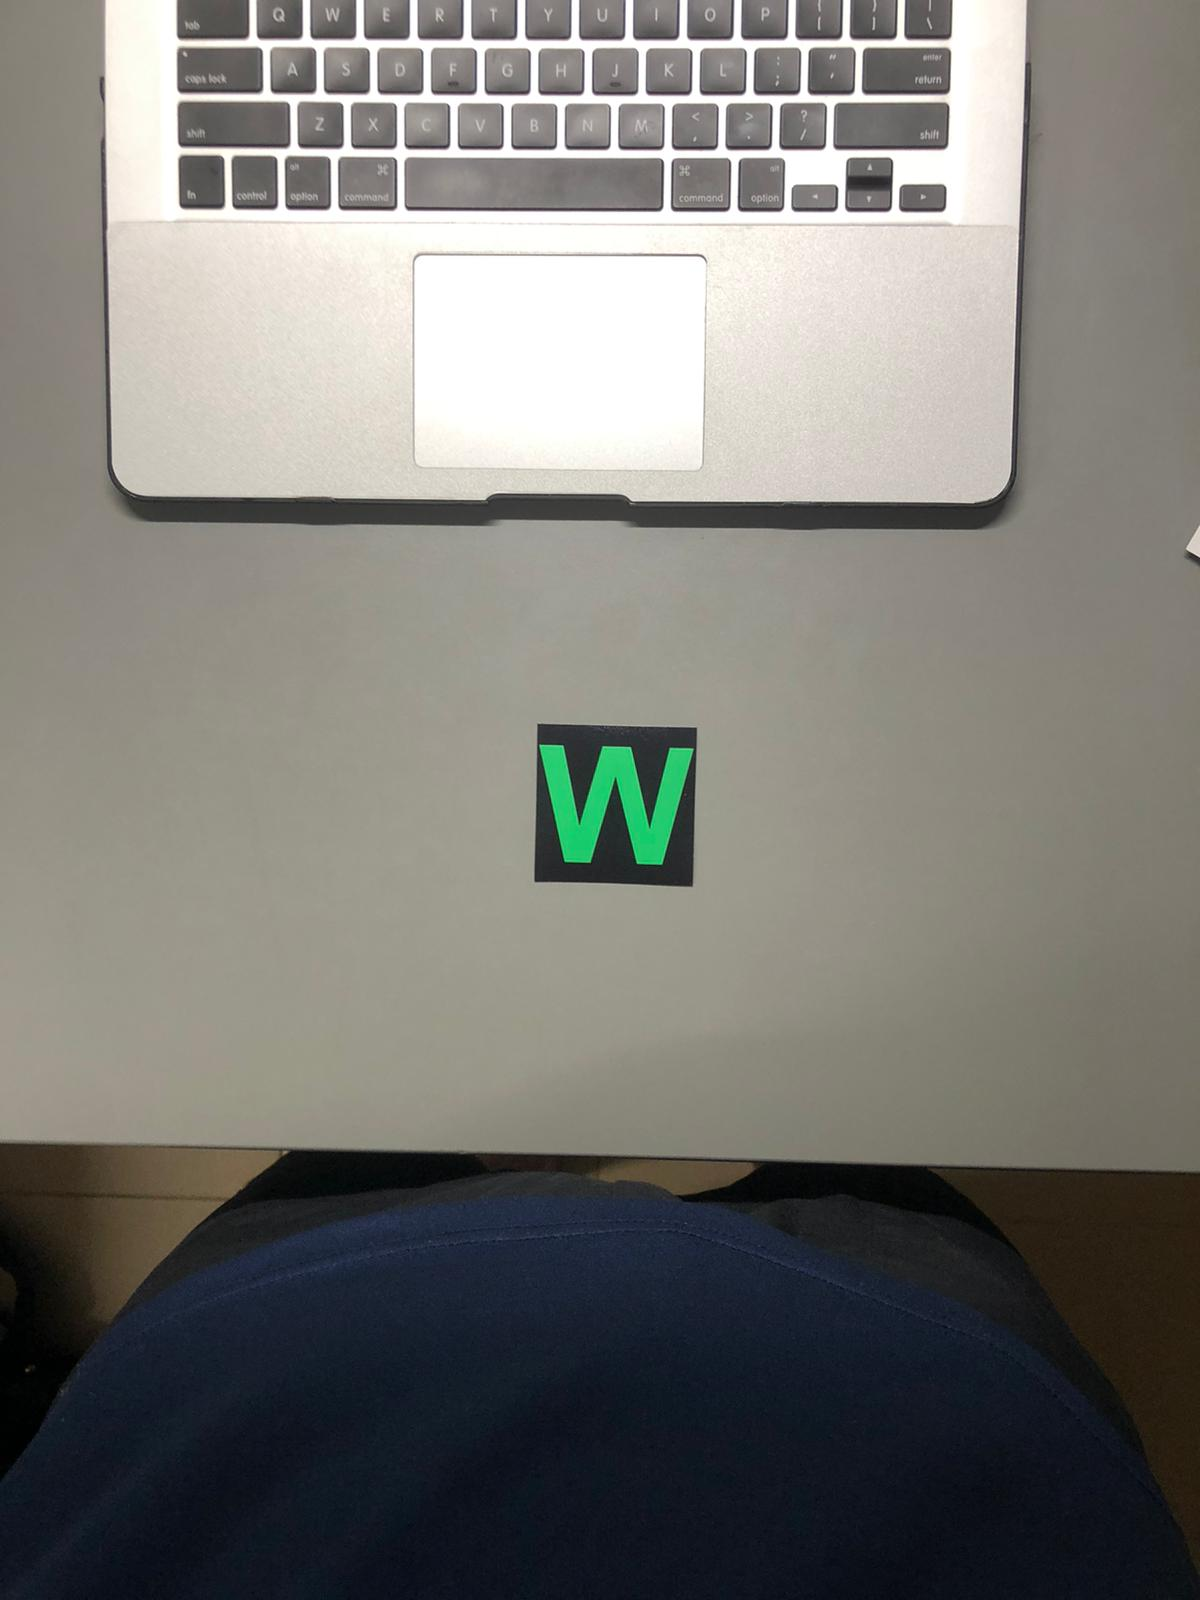W: (532, 726, 705, 888)
